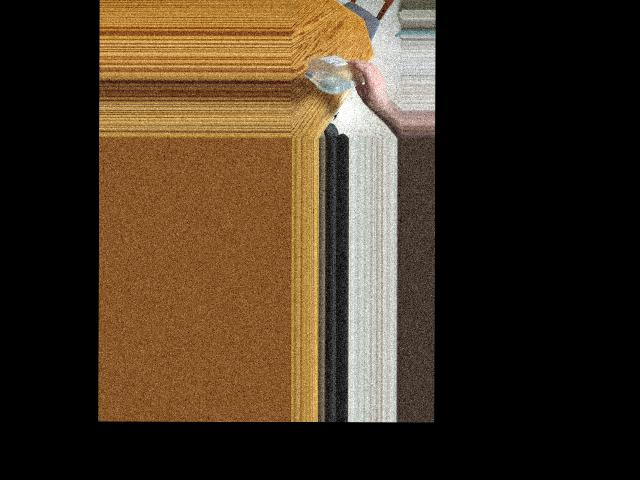cheese: (304, 54, 376, 91)
